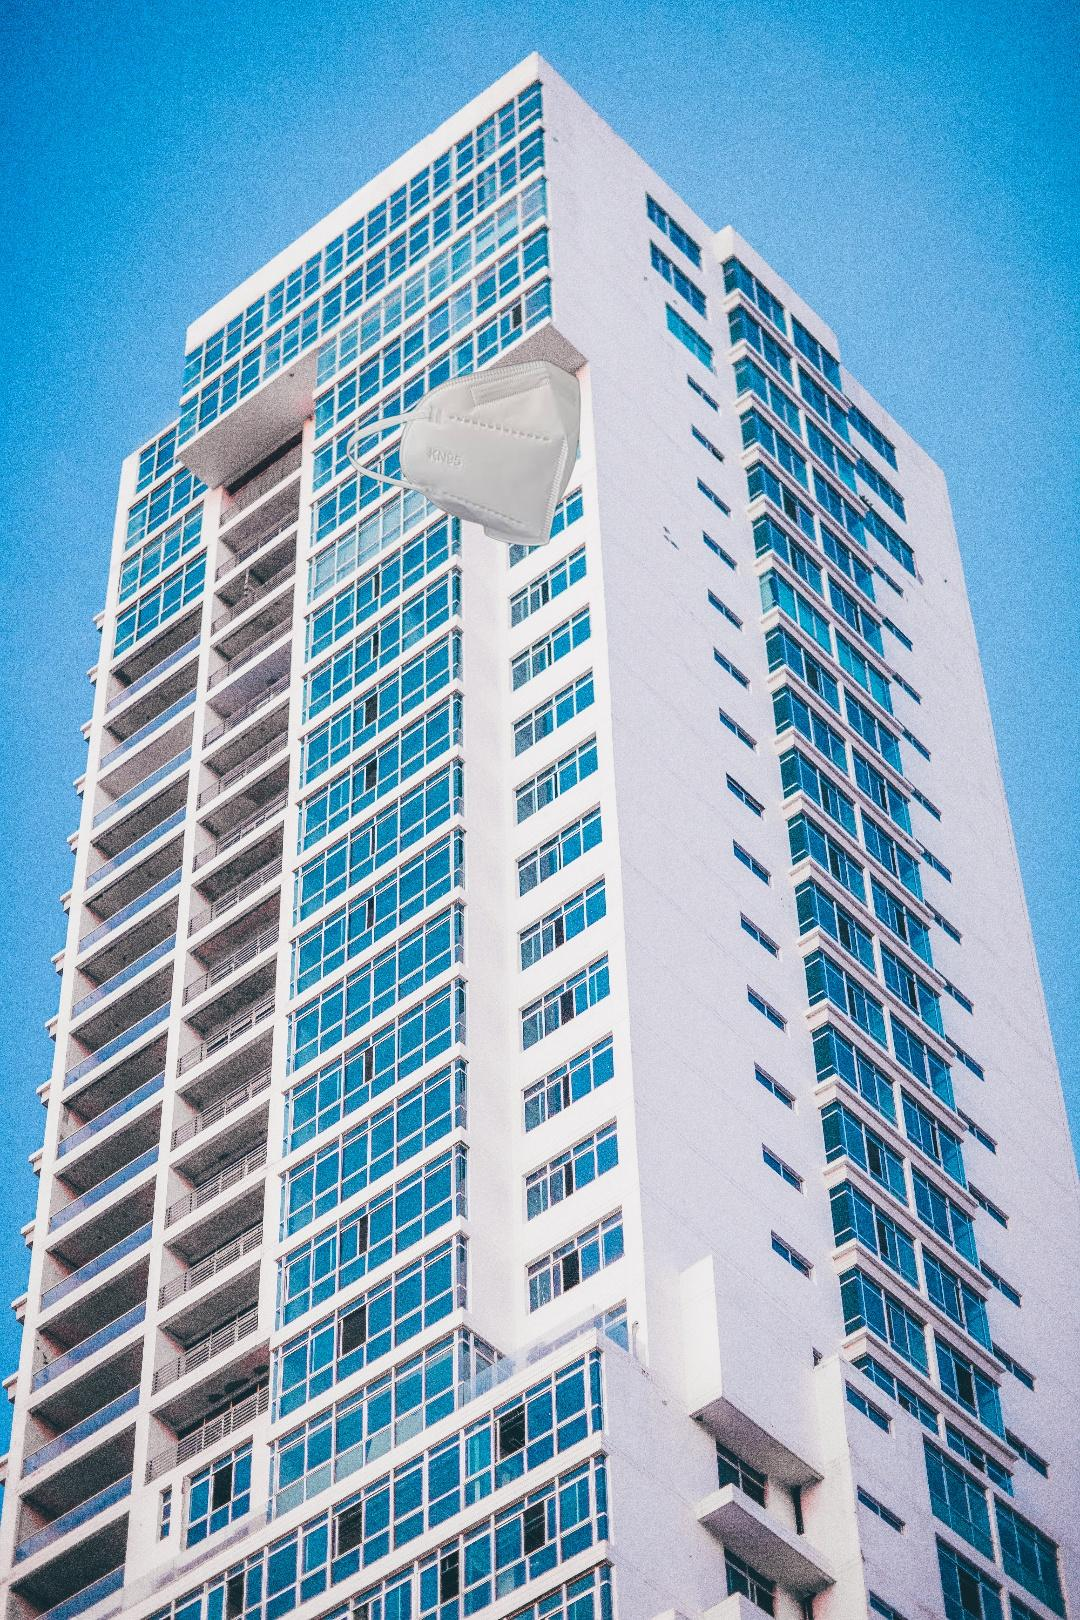trash: (344, 359, 581, 547)
